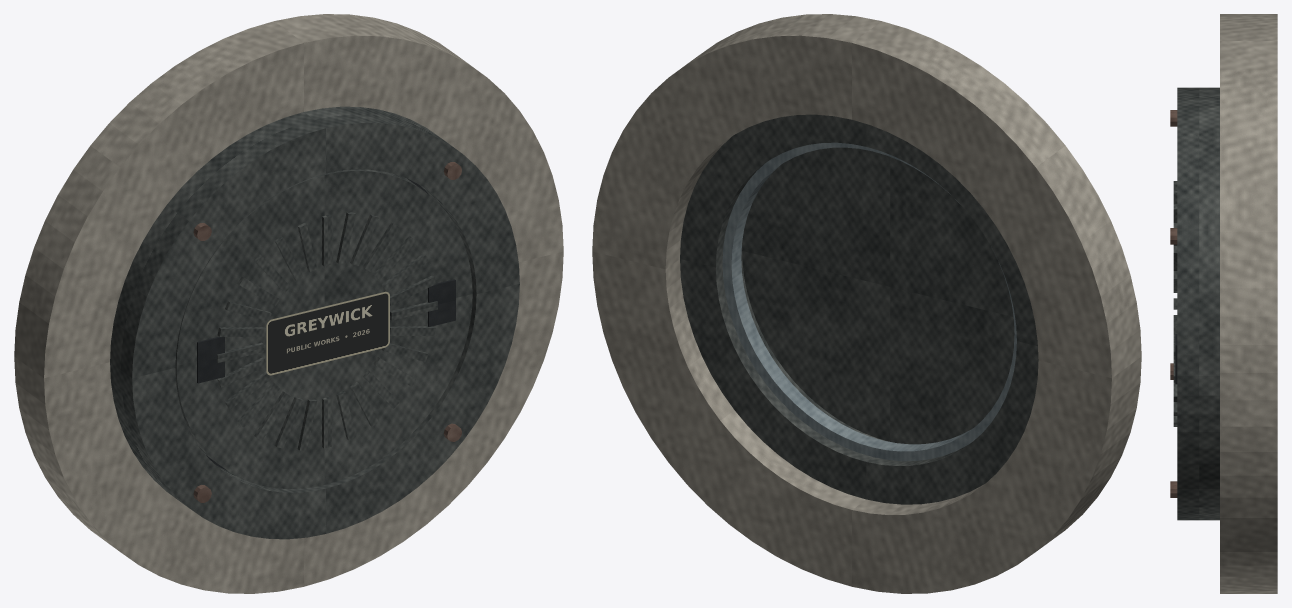
File: PROJECT_Z_Drainage_01_Manhole_Prefab.glb
The picture shows the model from 3 angles, left to right: view 1: azimuth 30°, elevation 25°; view 2: azimuth 150°, elevation 25°; view 3: azimuth 270°, elevation 25°; orthographic projection. The views are drawn at different scales.
Parts seen in each view (by area): view 1: MANHOLE_01_Precast_Concrete_Setting_Collar, MANHOLE_02_Cast_Iron_Rim_Frame, MANHOLE_05_REMOVABLE_Cast_Iron_Cover__PIVOT_CENTER, MANHOLE_06_Radial_Traction_Ribs, MANHOLE_07_Cover_Stamped_Greywick_Logo, MANHOLE_08_Pick_Grip_Recess_Visuals; view 2: MANHOLE_01_Precast_Concrete_Setting_Collar, MANHOLE_05_REMOVABLE_Cast_Iron_Cover__PIVOT_CENTER, MANHOLE_02_Cast_Iron_Rim_Frame, MANHOLE_03_Inset_Lip_Retaining_Ledge; view 3: MANHOLE_01_Precast_Concrete_Setting_Collar, MANHOLE_02_Cast_Iron_Rim_Frame, MANHOLE_06_Radial_Traction_Ribs.
Part boxes in pixels (x1,y1,x2,y2): MANHOLE_01_Precast_Concrete_Setting_Collar: [14, 14, 563, 593]; MANHOLE_02_Cast_Iron_Rim_Frame: [110, 106, 519, 539]; MANHOLE_05_REMOVABLE_Cast_Iron_Cover__PIVOT_CENTER: [175, 169, 472, 488]; MANHOLE_06_Radial_Traction_Ribs: [217, 212, 437, 450]; MANHOLE_07_Cover_Stamped_Greywick_Logo: [266, 291, 389, 375]; MANHOLE_08_Pick_Grip_Recess_Visuals: [197, 279, 455, 383]; MANHOLE_01_Precast_Concrete_Setting_Collar: [592, 14, 1141, 593]; MANHOLE_05_REMOVABLE_Cast_Iron_Cover__PIVOT_CENTER: [742, 147, 1014, 444]; MANHOLE_02_Cast_Iron_Rim_Frame: [680, 114, 1038, 504]; MANHOLE_03_Inset_Lip_Retaining_Ledge: [722, 142, 1016, 461]; MANHOLE_01_Precast_Concrete_Setting_Collar: [1220, 14, 1277, 593]; MANHOLE_02_Cast_Iron_Rim_Frame: [1177, 87, 1219, 520]; MANHOLE_06_Radial_Traction_Ribs: [1173, 181, 1177, 426].
Size of the model in its own units: 1.26 by 1.26 by 0.233.
6 materials, 6 textured.
